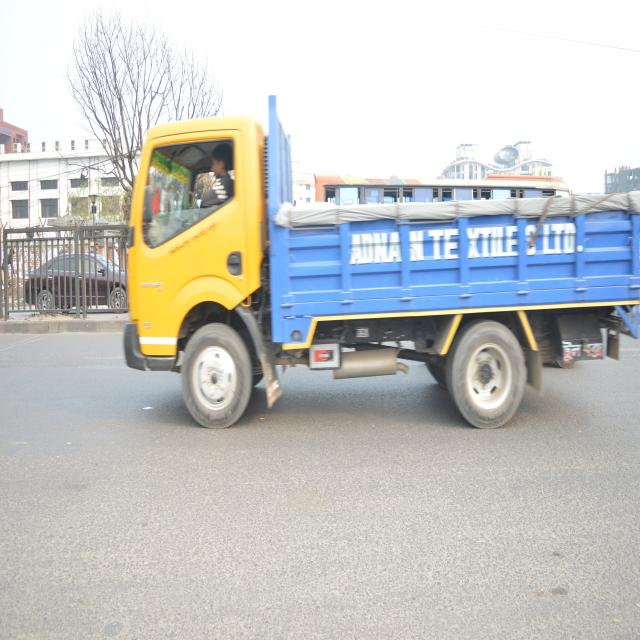truck: (110, 58, 640, 463)
